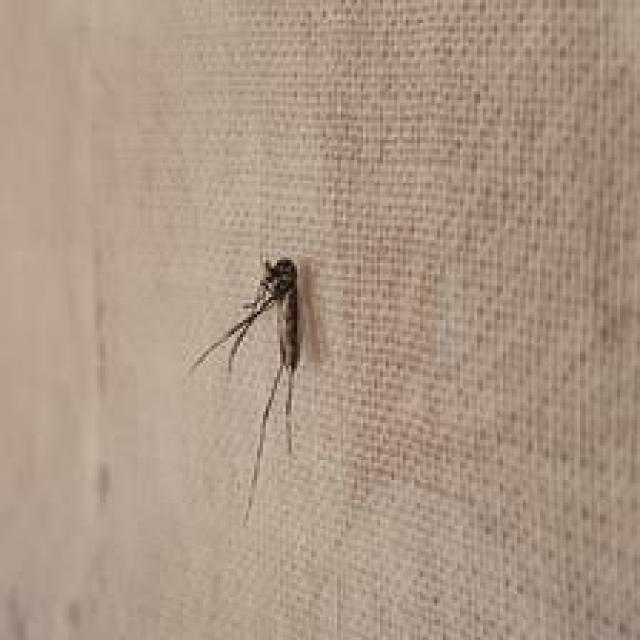Aedes albopictus: (186, 254, 311, 526)
